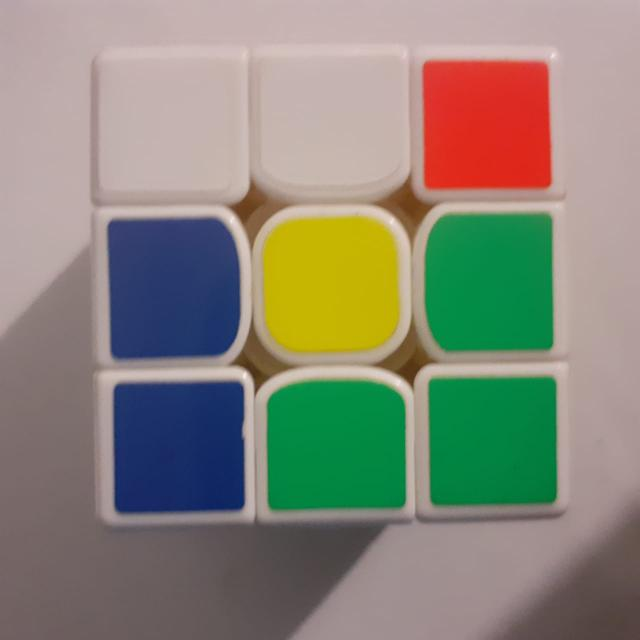Blue: (95, 212, 249, 364), (100, 374, 256, 522)
Green: (259, 377, 416, 521), (423, 208, 565, 360), (423, 369, 563, 515)
Orange: (414, 56, 560, 194)
White: (91, 52, 246, 200), (259, 56, 407, 190)
Yellow: (258, 212, 410, 356)
